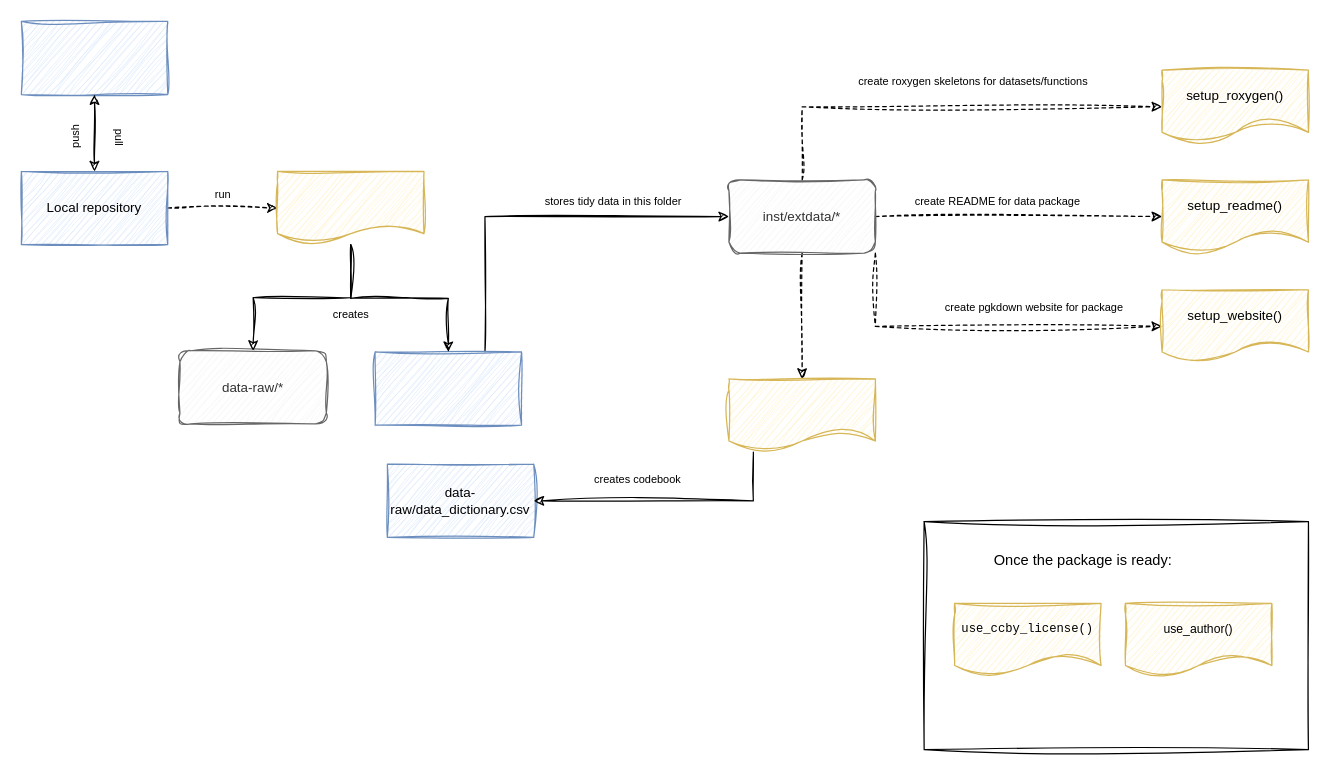
Some shapes in this 1330 by 771 pixel diagram are drawn without their labels. The shapes that lost their labels are listed below. From the top down, each one's box as (x1, y1, x2, y2) in pixels, then its label:
(20, 20, 168, 95): GitHub repository
(276, 170, 424, 245): setup_rawdata()
(374, 351, 522, 425): data-raw/data_processing.R
(728, 378, 875, 452): setup_dictionary()
